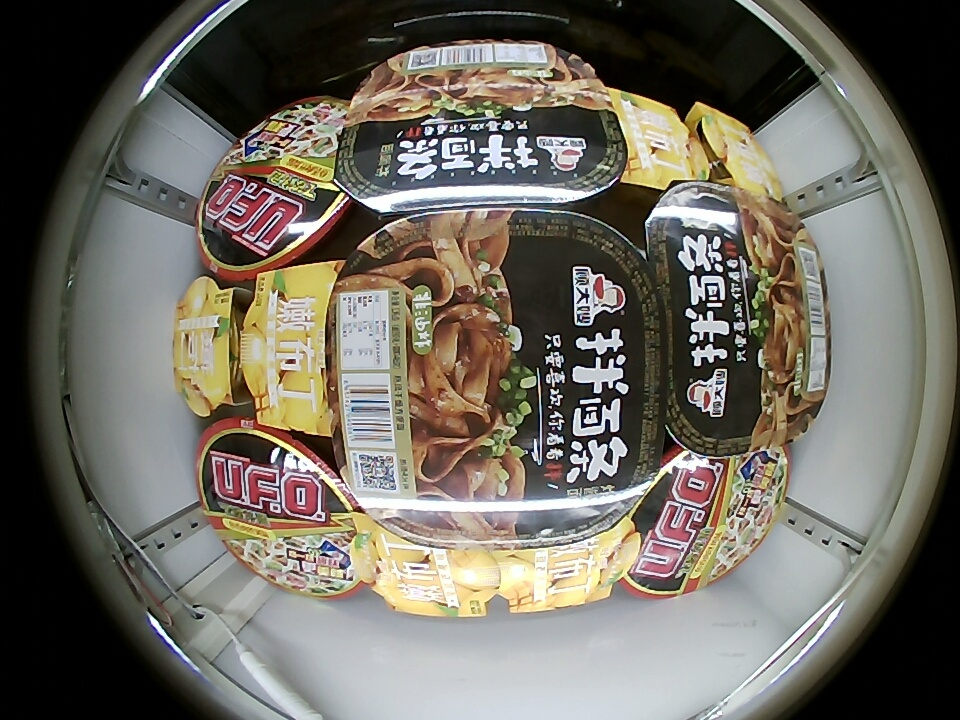buding: (240, 261, 345, 435), (351, 513, 500, 617), (500, 520, 641, 613), (609, 90, 710, 188), (690, 103, 784, 207), (173, 276, 238, 416)
gudasao: (325, 209, 662, 549), (335, 37, 629, 213), (645, 182, 831, 456)
ufo2: (195, 417, 366, 599), (196, 95, 356, 281), (618, 442, 790, 598)
